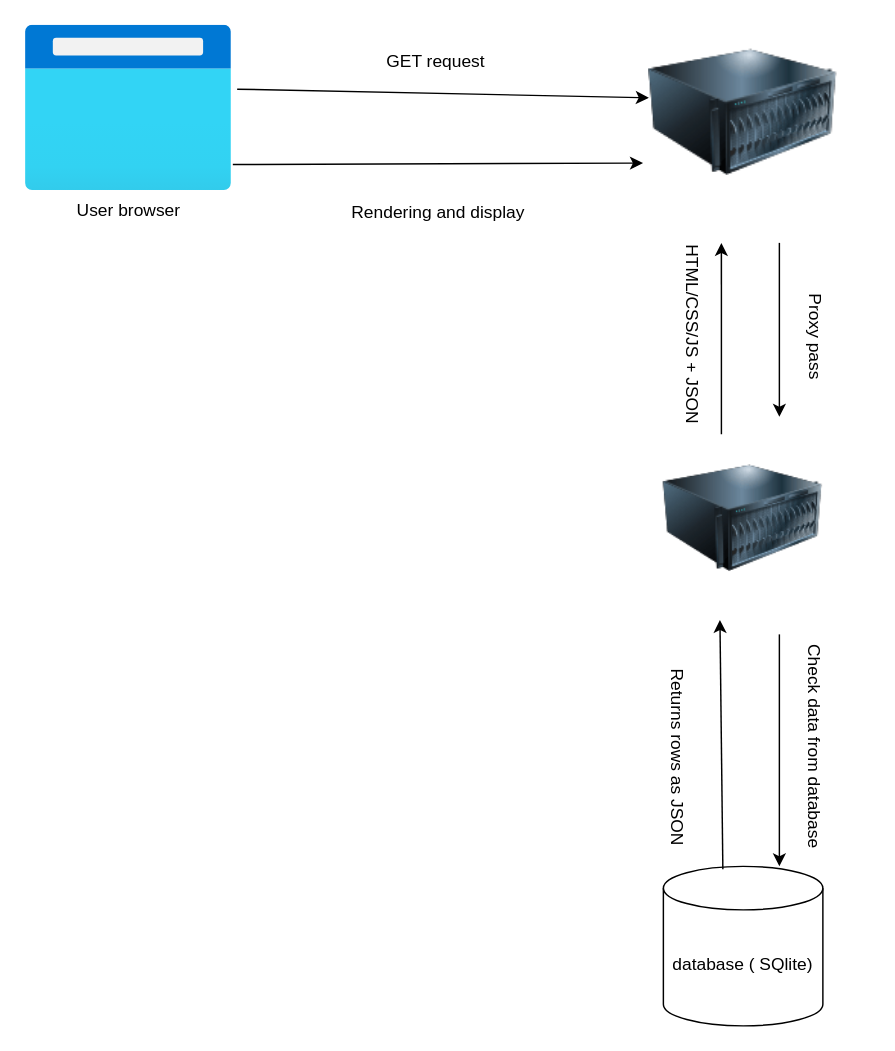
Image size: 895x1051. Some labels were removed from this diagram. The centre of each missing label's shape, as x and y in pixels:
Fast API :8000: point (742, 518)
NGINX :80 ( reverse proxy): point (742, 111)
